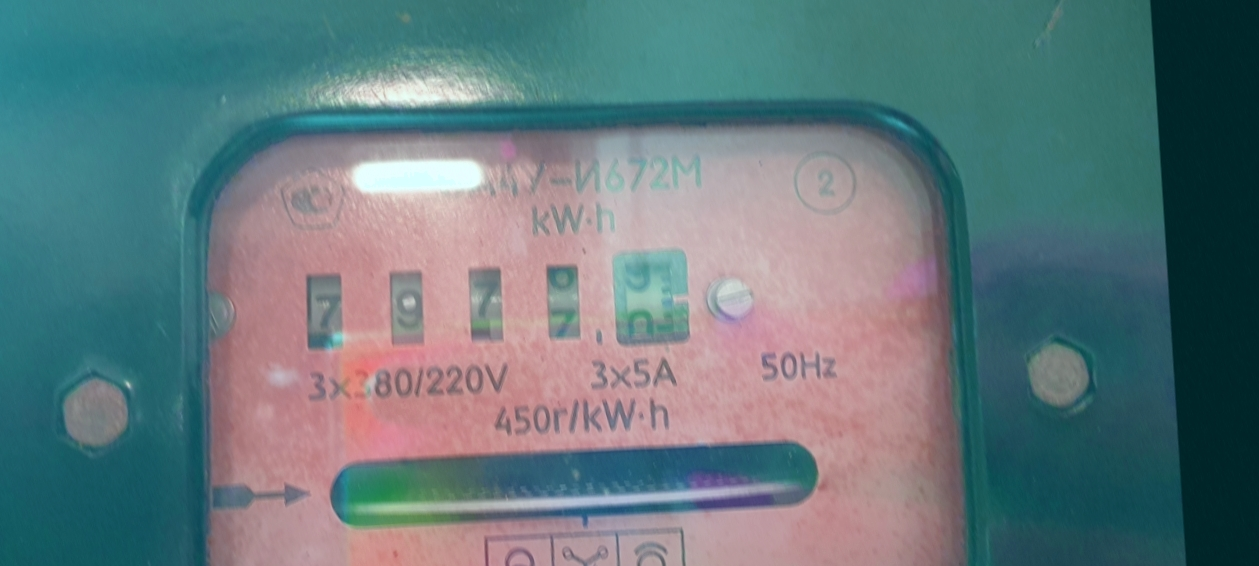0: (620, 302, 655, 343)
7: (467, 276, 500, 320), (309, 289, 341, 333), (545, 304, 577, 341)
9: (388, 284, 424, 331), (619, 255, 652, 292)
screen: (280, 226, 715, 388)
